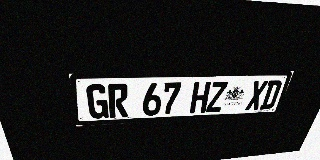6: (143, 83, 163, 116)
7: (161, 82, 181, 115)
D: (259, 80, 283, 109)
G: (86, 84, 109, 119)
H: (189, 82, 211, 113)
R: (108, 83, 128, 118)
X: (245, 80, 268, 110)
Z: (206, 81, 228, 112)
